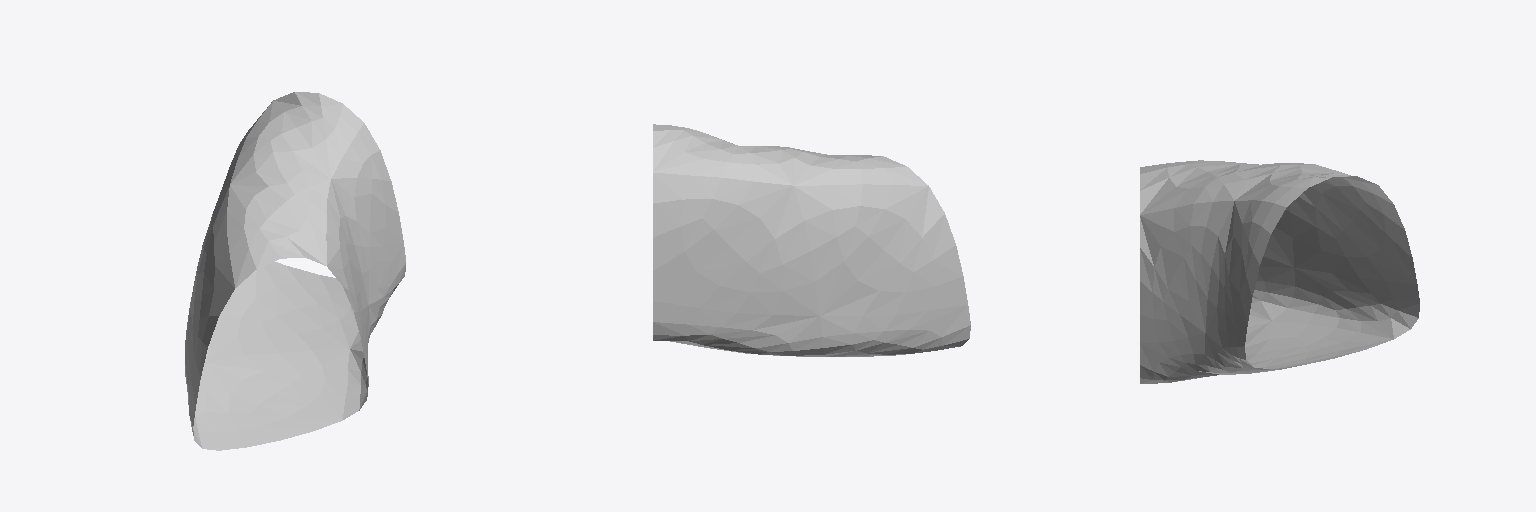
The model's file is cave_602r_2.obj.
3 renders of one model, left to right at view 1: azimuth 30°, elevation 25°; view 2: azimuth 150°, elevation 25°; view 3: azimuth 270°, elevation 25°, orthographic.
Visible parts, largest first — view 1: cave_602r_2_Cube.040; view 2: cave_602r_2_Cube.040; view 3: cave_602r_2_Cube.040.
Part boxes in pixels (bbox=[...]): cave_602r_2_Cube.040: bbox=[185, 92, 405, 450]; cave_602r_2_Cube.040: bbox=[653, 124, 970, 356]; cave_602r_2_Cube.040: bbox=[1140, 160, 1419, 383].
Bounding box in the file's own units: 8.9 × 7.81 × 8.14.